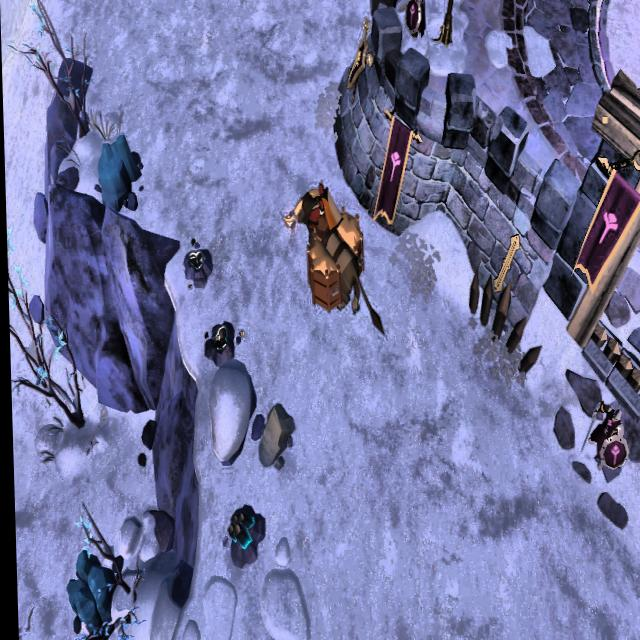ore_t4: (222, 508, 253, 552)
rock_t4: (62, 548, 116, 637), (94, 138, 142, 218)
